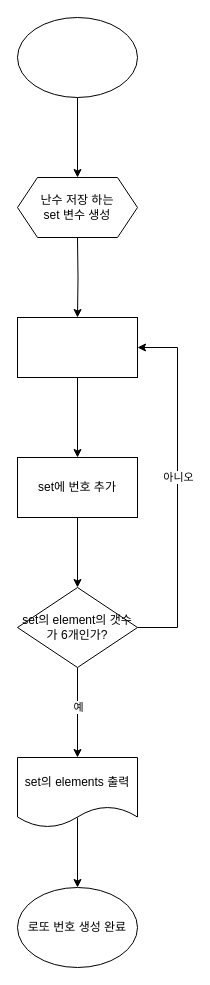
This 210x985 diagram has some shape labels left out. The shapes that lost their labels are listed below. From the top down, each one's centre as x and y in pixels, then its label:
point (77, 57): 로또 번호 추첨 시작
point (77, 347): 1~45 범위의 난수 1개 생성
